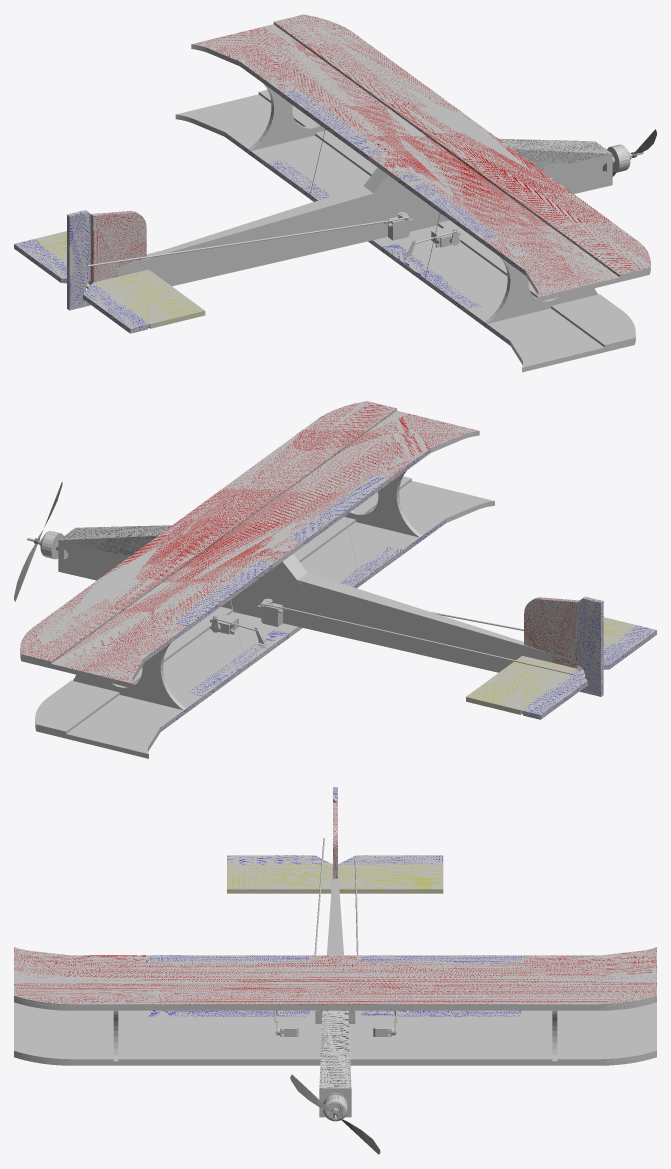
The picture shows the model from 3 angles, top to bottom: view 1: azimuth 30°, elevation 25°; view 2: azimuth 150°, elevation 25°; view 3: azimuth 270°, elevation 25°; orthographic projection. The views are drawn at different scales.
Visible parts, largest first — view 1: mesh47_mesh47-geometry; view 2: mesh47_mesh47-geometry, mesh48_mesh48-geometry, mesh8.001_mesh8-geometry; view 3: mesh47_mesh47-geometry, mesh8.001_mesh8-geometry.
Boxes of the visible parts, x1,y1,x2,y2 form: mesh47_mesh47-geometry: (14,14,650,372); mesh47_mesh47-geometry: (20,401,656,758); mesh48_mesh48-geometry: (260,598,574,674); mesh8.001_mesh8-geometry: (27,531,63,559); mesh47_mesh47-geometry: (14,787,656,1117); mesh8.001_mesh8-geometry: (323,1092,347,1121).
Size of the model in its own units: 0.6856 by 0.1375 by 0.7148.
